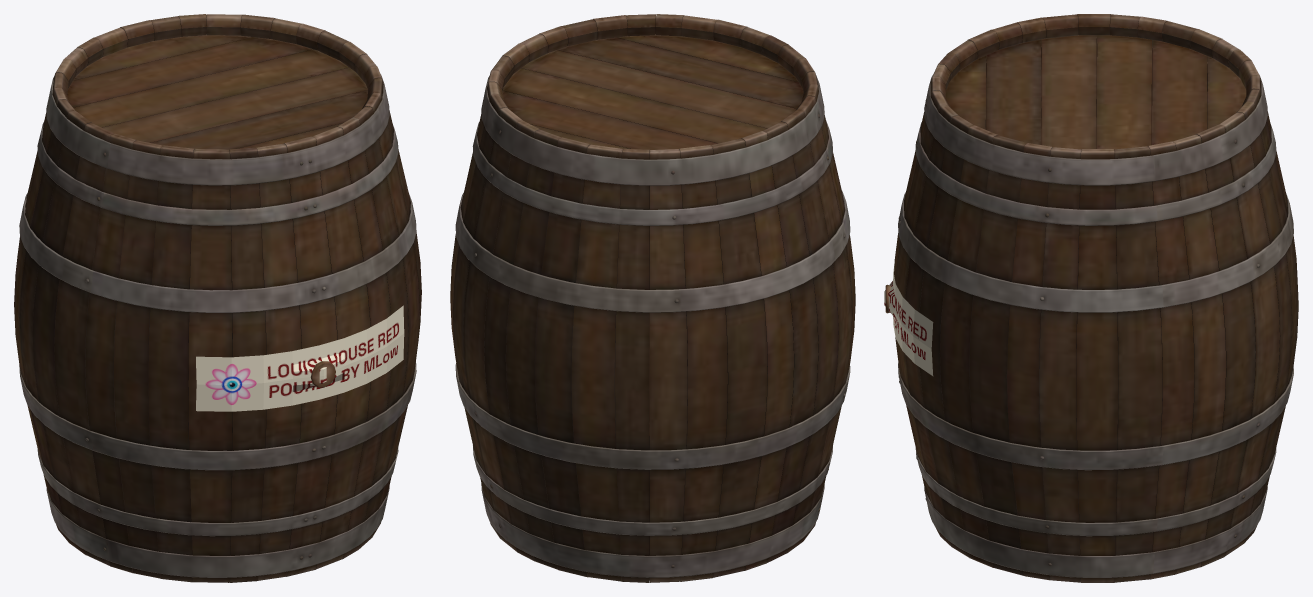
File: nyb_godfather_barrel.glb
3 views of the same model, side by side, from view 1: azimuth 30°, elevation 25°; view 2: azimuth 150°, elevation 25°; view 3: azimuth 270°, elevation 25° (orthographic).
Parts seen in each view (by area): view 1: wine_barrel_01_Lid, stk_lbl_4feb8eb41d.png; view 2: wine_barrel_01_Lid; view 3: wine_barrel_01_Lid, stk_lbl_4feb8eb41d.png.
Boxes of the visible parts, <box> form: wine_barrel_01_Lid: <box>14,14,421,582</box>; stk_lbl_4feb8eb41d.png: <box>196,305,404,411</box>; wine_barrel_01_Lid: <box>450,14,855,582</box>; wine_barrel_01_Lid: <box>885,14,1298,582</box>; stk_lbl_4feb8eb41d.png: <box>884,263,933,376</box>.
Size of the model in its own units: 0.7419 by 0.8713 by 0.7584.
2 materials, 2 textured.
